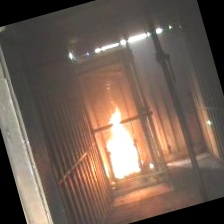fire: (94, 105, 150, 183)
